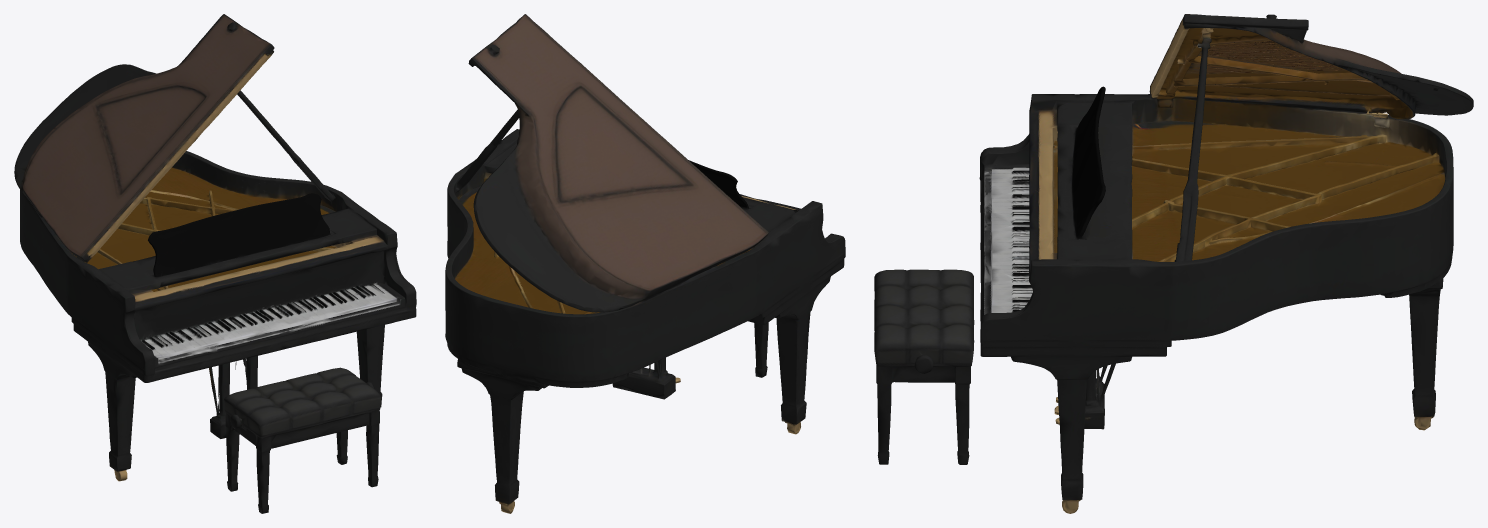
The model's file is grand-piano.glb.
3 renders of one model, left to right at view 1: azimuth 30°, elevation 25°; view 2: azimuth 150°, elevation 25°; view 3: azimuth 270°, elevation 25°, orthographic. The views are drawn at different scales.
Visible parts, largest first — view 1: tripo_node_b5ffdf37-32b0-42bf-91d1-712f2309888e; view 2: tripo_node_b5ffdf37-32b0-42bf-91d1-712f2309888e; view 3: tripo_node_b5ffdf37-32b0-42bf-91d1-712f2309888e.
Boxes of the visible parts, x1,y1,x2,y2 form: tripo_node_b5ffdf37-32b0-42bf-91d1-712f2309888e: (14, 14, 416, 513); tripo_node_b5ffdf37-32b0-42bf-91d1-712f2309888e: (445, 14, 845, 513); tripo_node_b5ffdf37-32b0-42bf-91d1-712f2309888e: (874, 14, 1473, 513).
Bounding box in the file's own units: 0.9604 × 1.2 × 1.41.
1 material, 1 textured.
